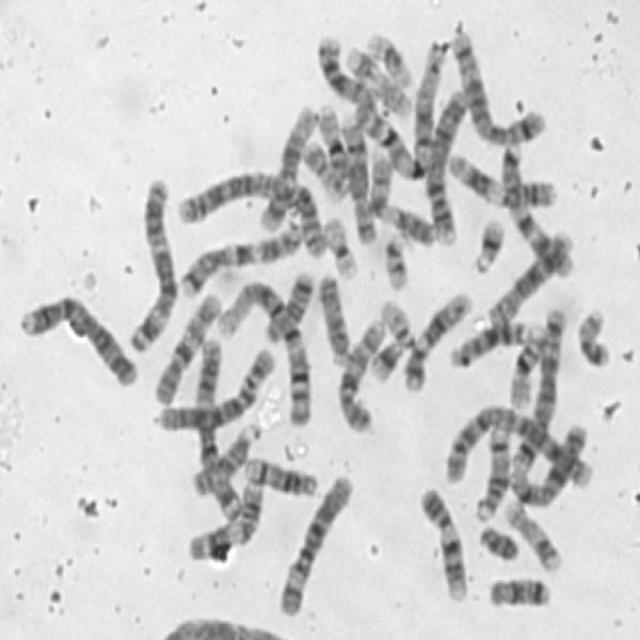A1: (211, 271, 316, 430), (348, 39, 449, 182)
A2: (172, 164, 333, 260), (438, 397, 596, 492)
A3: (123, 172, 180, 355), (191, 334, 245, 527)
B4: (15, 287, 142, 390), (422, 80, 473, 249)
B5: (446, 22, 549, 148), (508, 301, 568, 476)
C10: (149, 282, 226, 409), (332, 313, 387, 435)
C11: (179, 471, 267, 564), (446, 148, 561, 212)
C12: (252, 100, 319, 234), (399, 283, 474, 394)
C6: (272, 464, 357, 619), (150, 339, 280, 435)
C7: (496, 136, 578, 279), (175, 216, 306, 298)
C8: (483, 224, 576, 328), (336, 106, 380, 249)
C9: (365, 141, 439, 248), (414, 480, 470, 604)
D13: (446, 314, 536, 370), (312, 32, 373, 112)
D14: (470, 416, 516, 523), (238, 448, 320, 498)
D15: (189, 418, 263, 498), (314, 268, 353, 364)
E16: (504, 319, 550, 411), (311, 96, 351, 198)
E17: (339, 38, 414, 118), (500, 494, 566, 574)
E18: (259, 264, 317, 344), (482, 571, 553, 612)
F19: (362, 26, 416, 90), (320, 210, 362, 282)
F20: (298, 134, 351, 193), (573, 301, 615, 370)
G21: (468, 209, 508, 274), (366, 333, 407, 383)
G22: (377, 291, 419, 350), (378, 226, 412, 293)
X: (507, 414, 592, 509)
Y: (474, 518, 522, 562)
